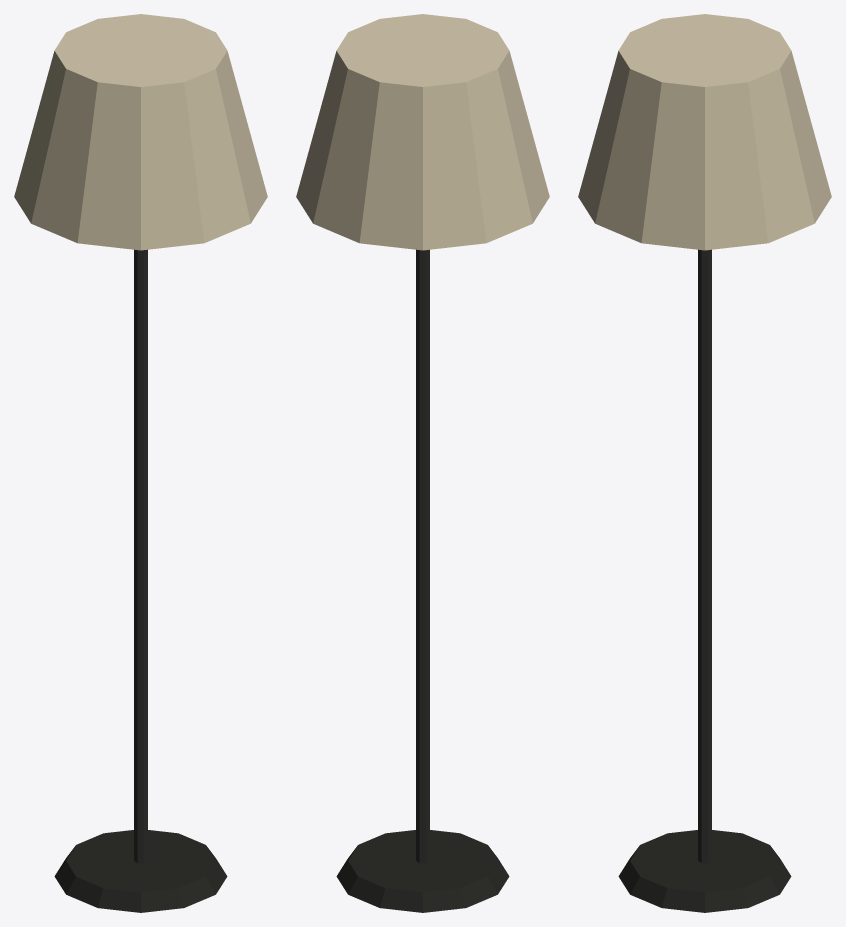
The model's file is floor-lamp.glb.
The picture shows the model from 3 angles, left to right: view 1: azimuth 30°, elevation 25°; view 2: azimuth 150°, elevation 25°; view 3: azimuth 270°, elevation 25°; orthographic projection.
Parts seen in each view (by area): view 1: floor-lamp; view 2: floor-lamp; view 3: floor-lamp.
Boxes of the visible parts, x1=… form: floor-lamp: x1=14, y1=14, x2=267, y2=912; floor-lamp: x1=296, y1=14, x2=549, y2=912; floor-lamp: x1=578, y1=14, x2=831, y2=912.
Size of the model in its own units: 0.44 by 1.58 by 0.44.
